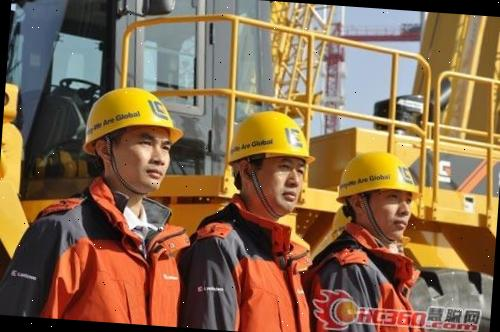helmet: (81, 84, 186, 155), (222, 108, 322, 172), (333, 148, 426, 207)
wear: (18, 215, 184, 327), (188, 218, 316, 332), (306, 230, 419, 332)
